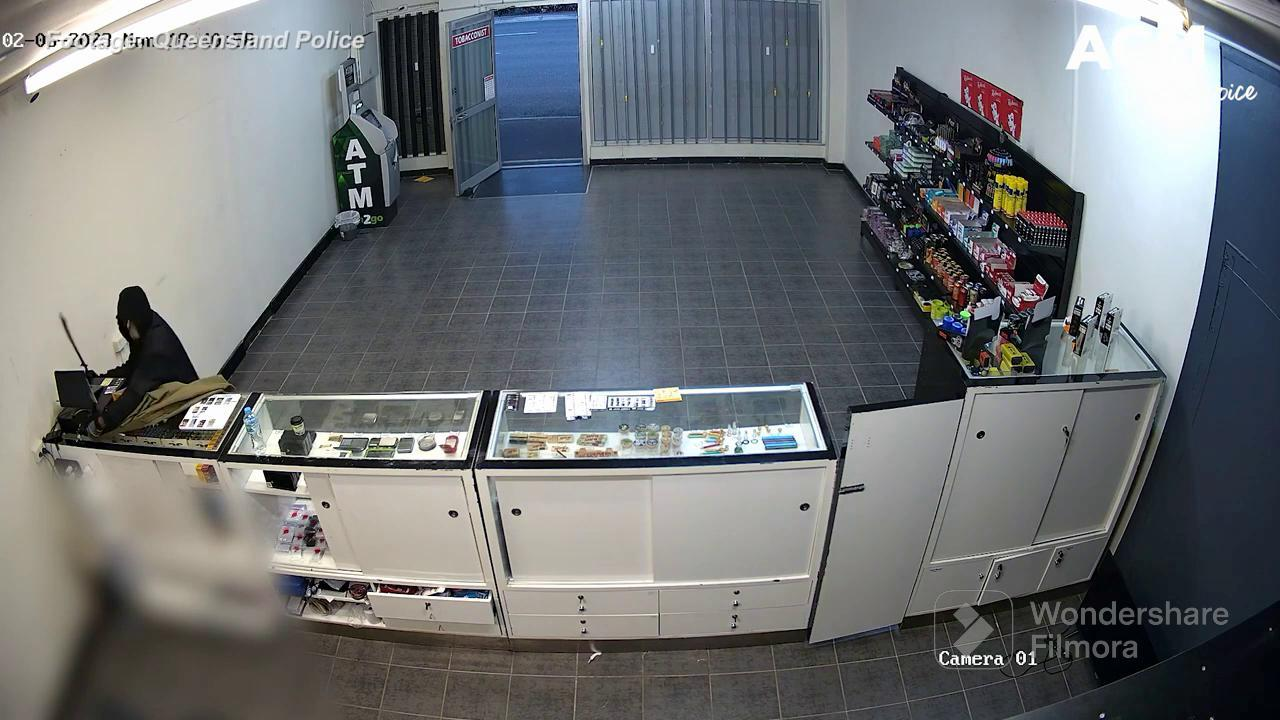melee: (57, 312, 100, 376)
